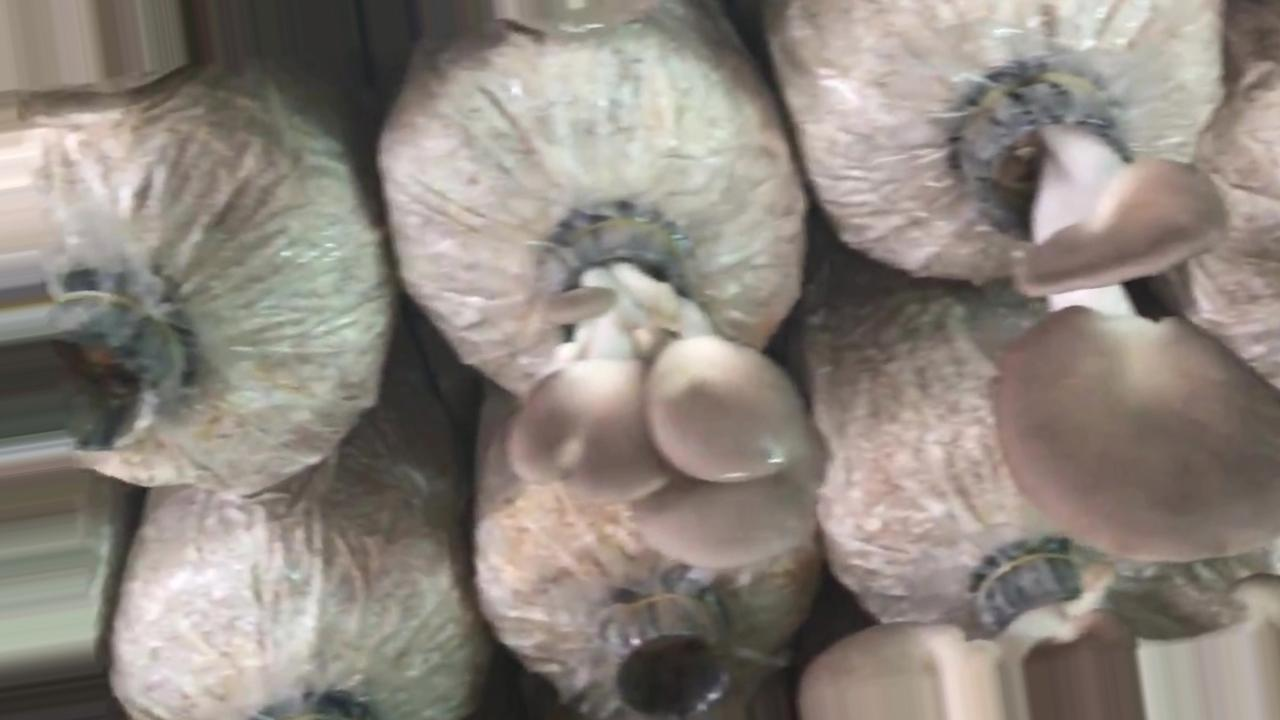nam: (966, 80, 1277, 563), (500, 210, 820, 574), (798, 542, 1270, 720)
